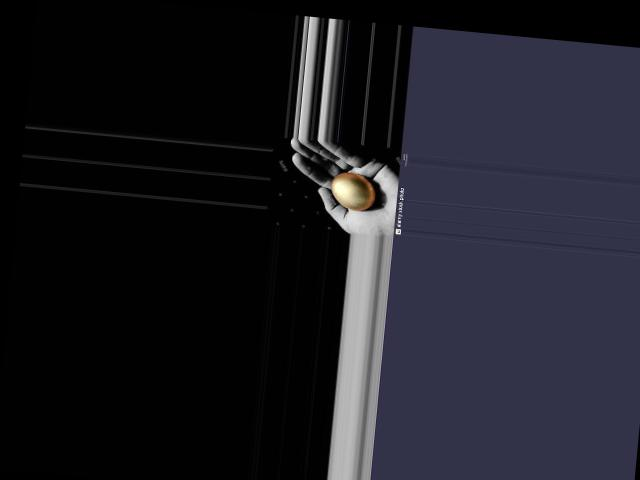egg: (329, 170, 376, 211)
